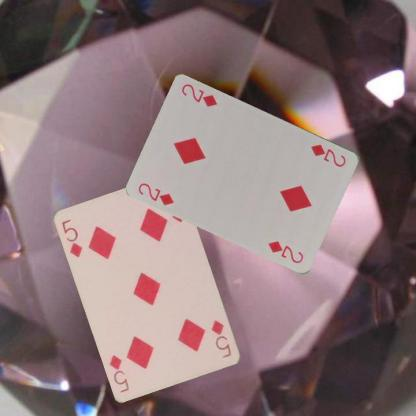2d: (134, 180, 176, 207), (308, 142, 348, 168)
5d: (208, 316, 233, 360), (60, 217, 84, 259)
